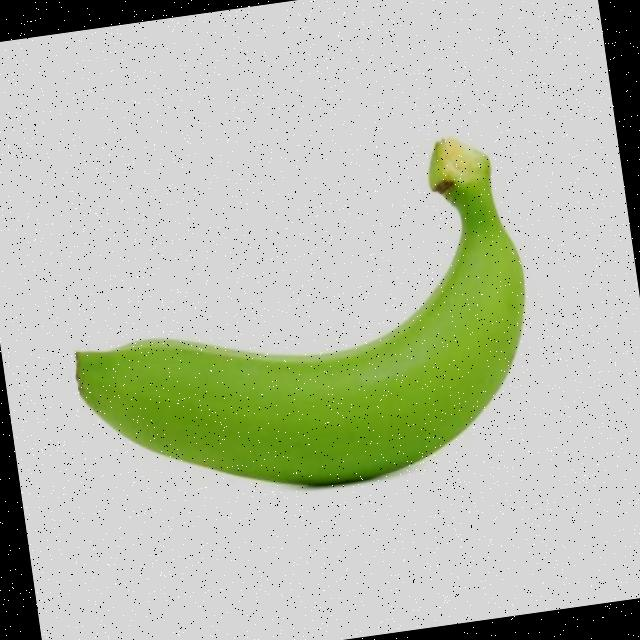banana: (49, 133, 550, 520)
